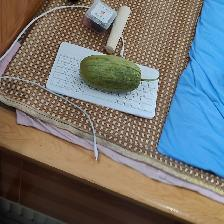gua: (80, 58, 144, 94)
